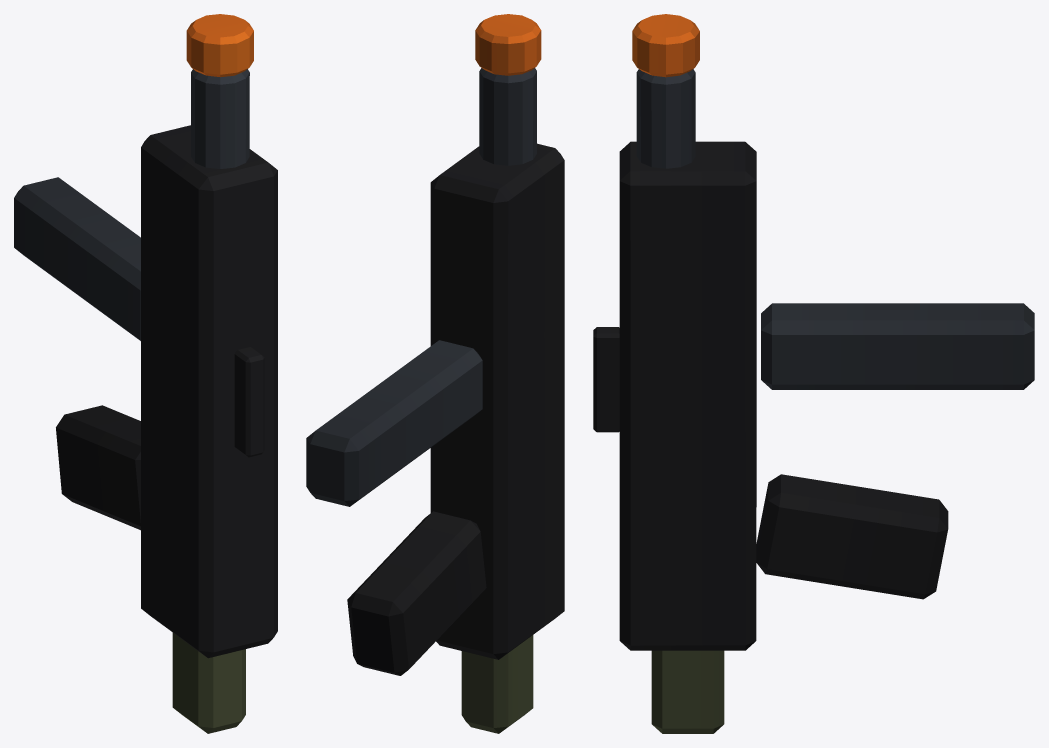
Rendered from buzz.glb.
3 renders of one model, left to right at view 1: azimuth 30°, elevation 25°; view 2: azimuth 150°, elevation 25°; view 3: azimuth 270°, elevation 25°, orthographic. The views are drawn at different scales.
Parts seen in each view (by area): view 1: buzz; view 2: buzz; view 3: buzz.
Part boxes in pixels (x1=…): buzz: x1=14, y1=14, x2=277, y2=733; buzz: x1=306, y1=14, x2=564, y2=733; buzz: x1=593, y1=14, x2=1034, y2=733.
Bounding box in the file's own units: 0.05 × 0.424 × 0.242.
